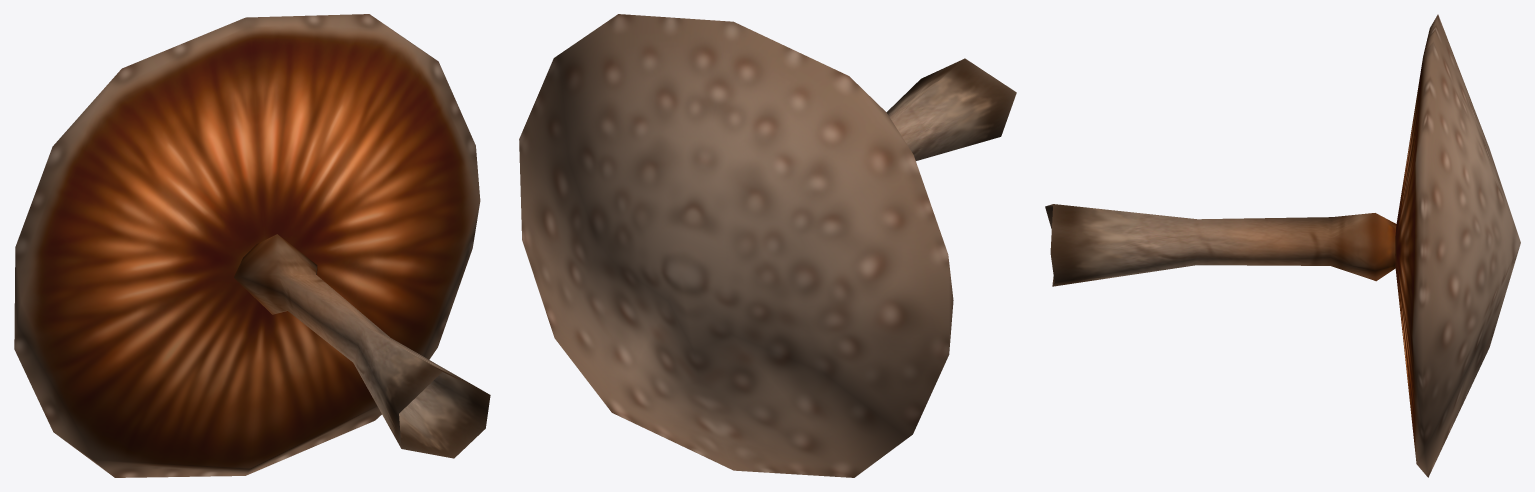
File: MEP_GiantShroom_01.fbx
3 views of the same model, side by side, from view 1: azimuth 30°, elevation 25°; view 2: azimuth 150°, elevation 25°; view 3: azimuth 270°, elevation 25° (orthographic). The views are drawn at different scales.
Parts seen in each view (by area): view 1: MEP_GiantShroom_01; view 2: MEP_GiantShroom_01; view 3: MEP_GiantShroom_01.
Boxes of the visible parts, x1=… form: MEP_GiantShroom_01: x1=14, y1=14, x2=490, y2=477; MEP_GiantShroom_01: x1=519, y1=14, x2=1016, y2=477; MEP_GiantShroom_01: x1=1045, y1=14, x2=1520, y2=477.
Bounding box in the file's own units: 3.4 × 3.3 × 3.55.
